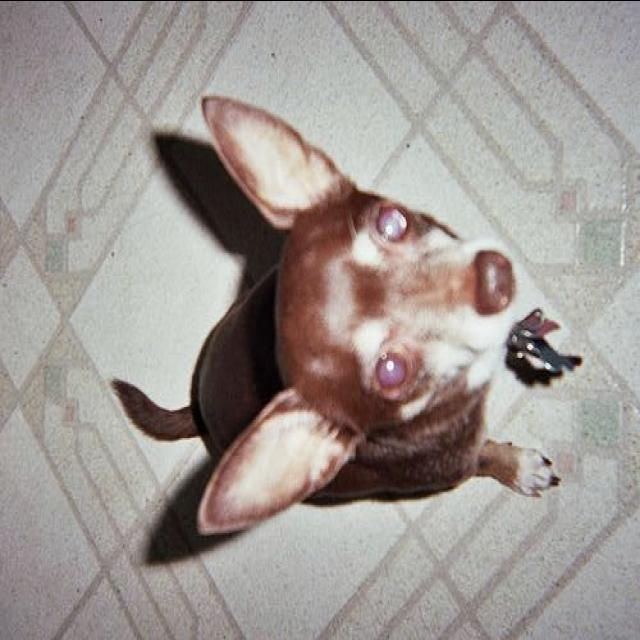chihuahua: (109, 90, 559, 535)
